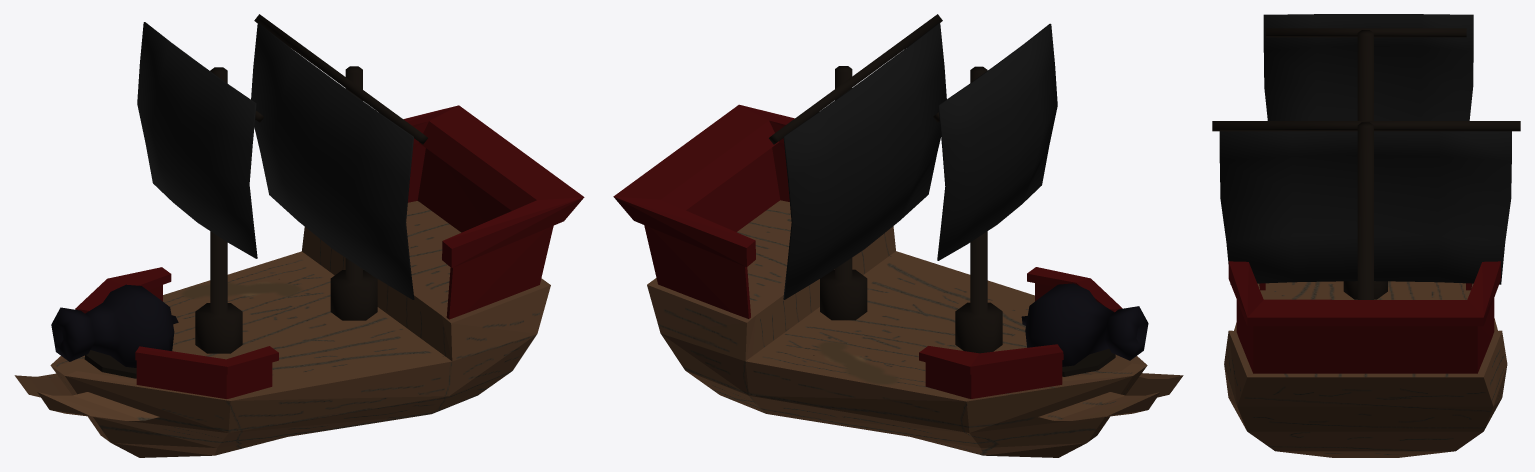
Rendered from sovrag_strelja.fbx.
The picture shows the model from 3 angles, left to right: view 1: azimuth 30°, elevation 25°; view 2: azimuth 150°, elevation 25°; view 3: azimuth 270°, elevation 25°; orthographic projection. The views are drawn at different scales.
Visible parts, largest first — view 1: Sphere, Sphere_001, Plane_001, Plane, Cylinder, Cylinder_005, Cylinder_008, Cylinder_007, Cylinder_001; view 2: Sphere, Sphere_001, Plane_001, Plane, Cylinder, Cylinder_005, Cylinder_008, Cylinder_007, Cylinder_001; view 3: Plane_001, Sphere, Sphere_001, Plane, Cylinder_007, Cylinder_008, Cylinder_005, Cylinder_006.
Part boxes in pixels (x1=…): Sphere: x1=14, y1=201, x2=550, y2=457; Sphere_001: x1=75, y1=105, x2=584, y2=398; Plane_001: x1=251, y1=23, x2=414, y2=299; Plane: x1=137, y1=22, x2=257, y2=258; Cylinder: x1=51, y1=284, x2=178, y2=367; Cylinder_005: x1=195, y1=67, x2=242, y2=353; Cylinder_008: x1=330, y1=66, x2=377, y2=320; Cylinder_007: x1=254, y1=14, x2=427, y2=144; Cylinder_001: x1=84, y1=350, x2=136, y2=378; Sphere: x1=647, y1=200, x2=1183, y2=457; Sphere_001: x1=613, y1=104, x2=1122, y2=398; Plane_001: x1=783, y1=23, x2=946, y2=299; Plane: x1=937, y1=23, x2=1057, y2=260; Cylinder: x1=1021, y1=283, x2=1148, y2=366; Cylinder_005: x1=955, y1=66, x2=1002, y2=353; Cylinder_008: x1=820, y1=66, x2=867, y2=320; Cylinder_007: x1=769, y1=14, x2=942, y2=144; Cylinder_001: x1=1062, y1=348, x2=1115, y2=376; Plane_001: x1=1219, y1=131, x2=1511, y2=284; Sphere: x1=1224, y1=281, x2=1507, y2=457; Sphere_001: x1=1228, y1=261, x2=1500, y2=373; Plane: x1=1263, y1=14, x2=1473, y2=120; Cylinder_007: x1=1212, y1=121, x2=1520, y2=131; Cylinder_008: x1=1357, y1=122, x2=1373, y2=299; Cylinder_005: x1=1343, y1=30, x2=1387, y2=299; Cylinder_006: x1=1266, y1=28, x2=1466, y2=37.
Bounding box in the file's own units: 5.5 × 3.95 × 3.14.
5 materials, 1 textured.
